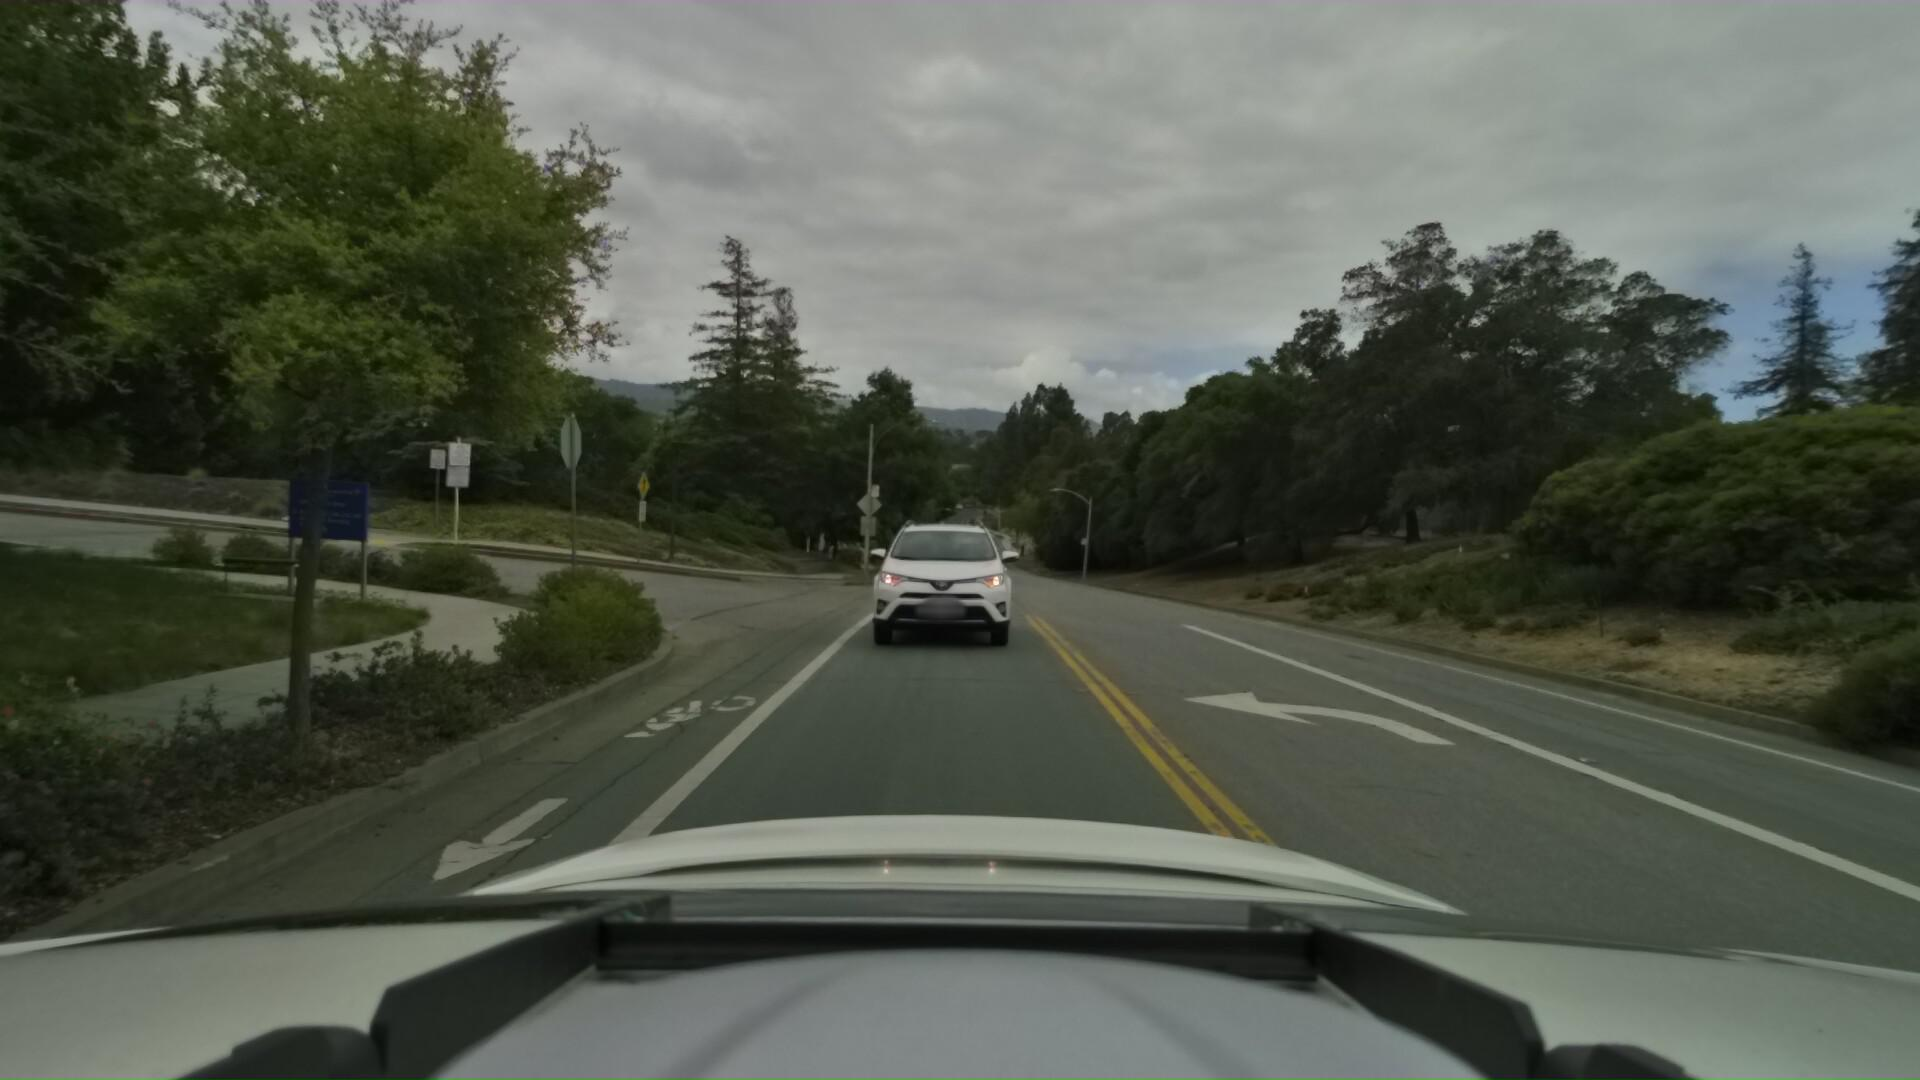car: (862, 509, 1014, 662)
